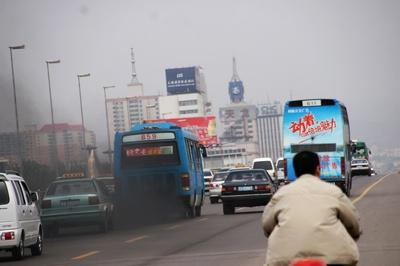smoke: (102, 185, 196, 240)
